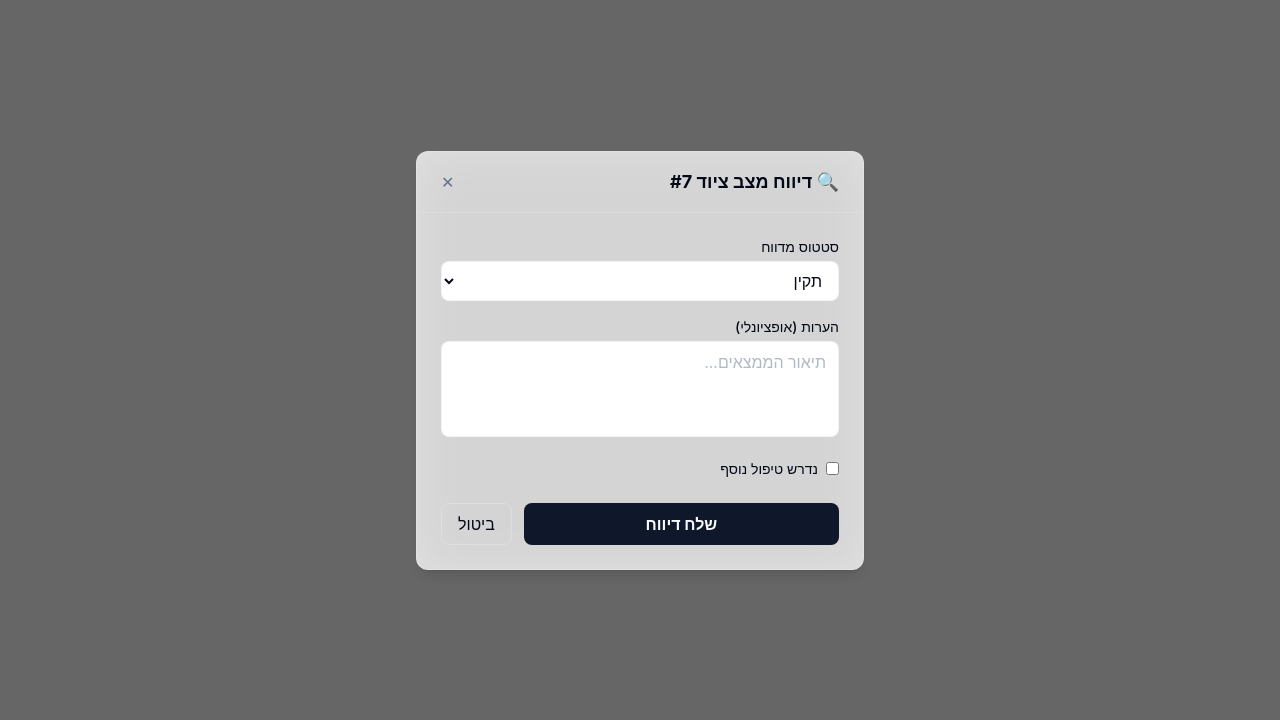
Test case: VerificationForm: submitting (FE-H6-2) › shows the failure and can be submitted again
The width and height of the screenshot is (1280, 720).
Click the button "שלח דיווח": click(681, 524) [524,502,839,544]
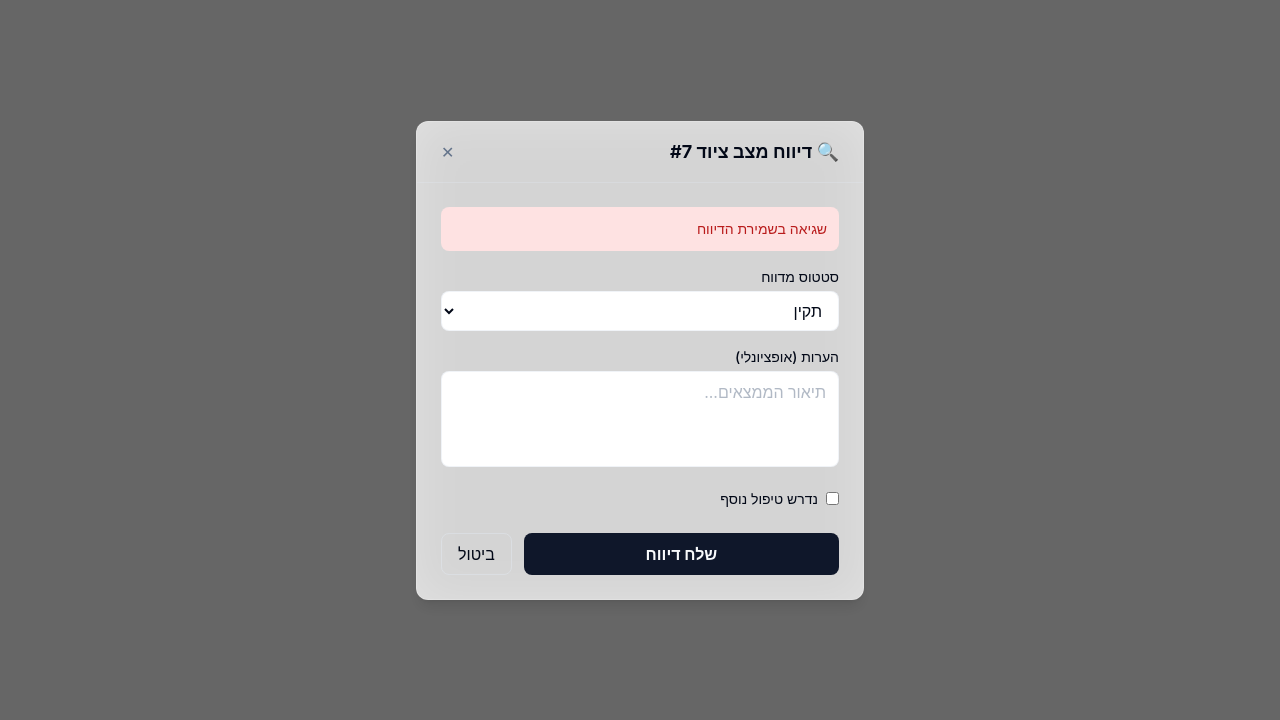
Result: the text "שגיאה בשמירת הדיווח" is shown at [441,206,839,250]
Note: The second attempt clears the message while it is out.
Click the button "שלח דיווח": click(681, 554) [524,532,839,574]
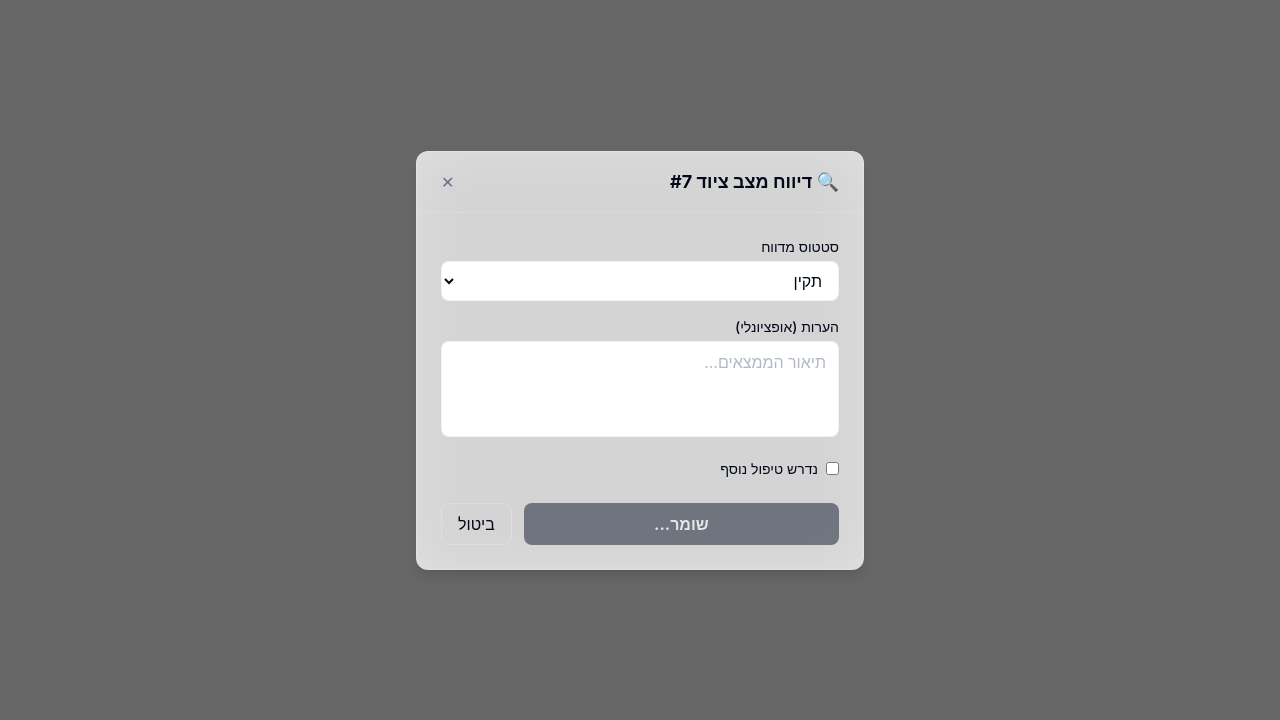
Result: the button "שומר..." is disabled at [524,502,839,544]
Result: the text "שגיאה בשמירת הדיווח" is gone
